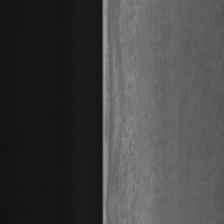silk_spot: (113, 16, 150, 217)
